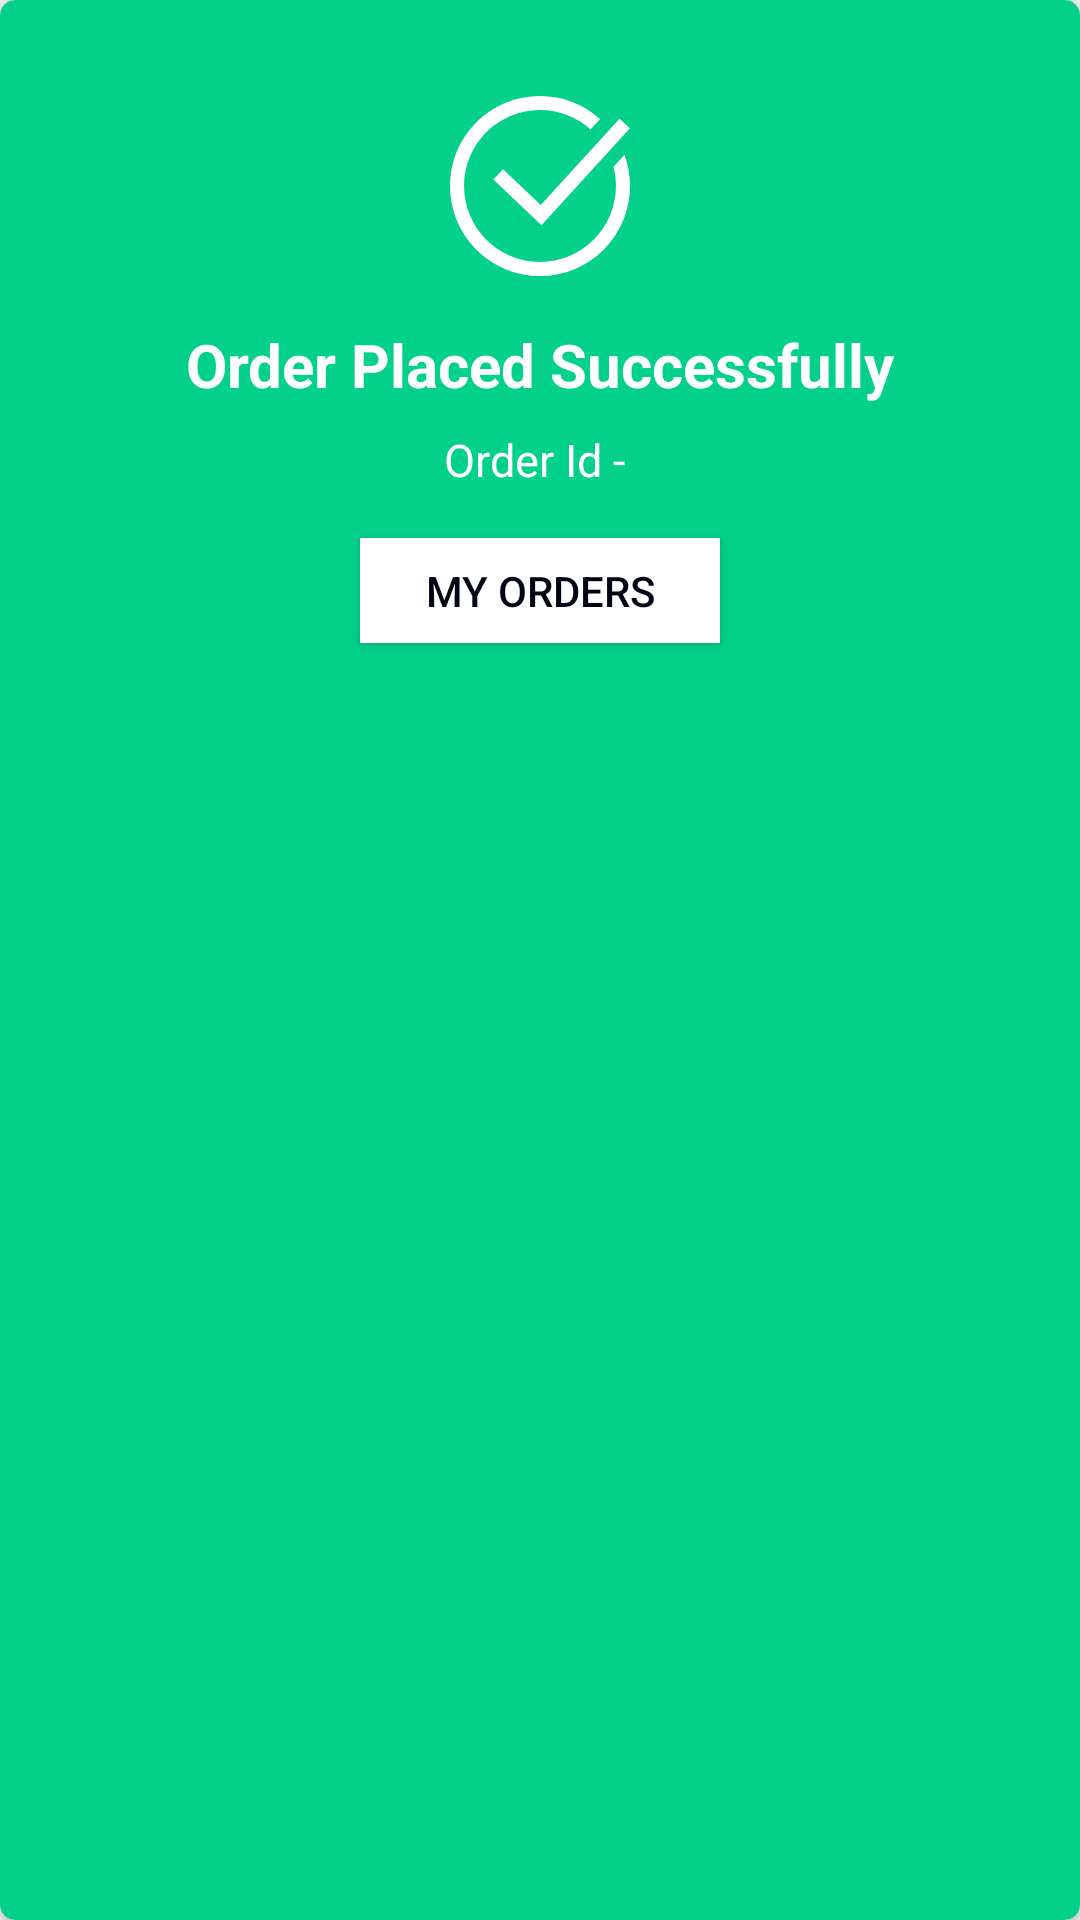

Named icons in this screenshot (1080px×1920px) and their centers, [x,y]:
tick: [540,186]
